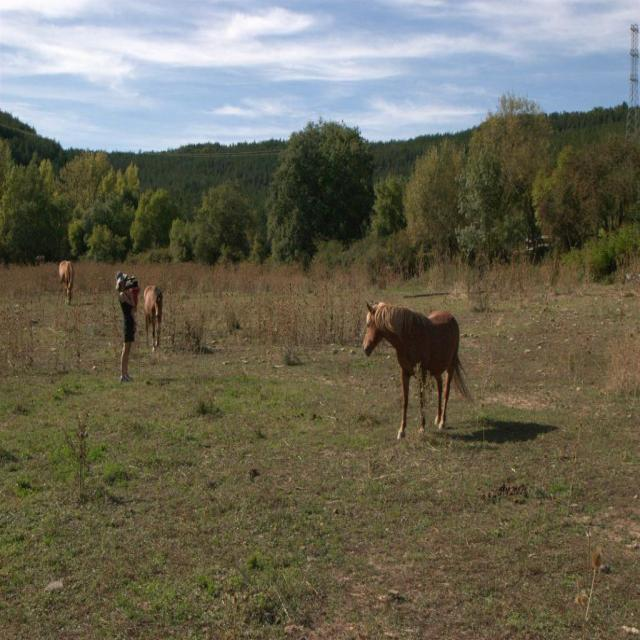Horse: (362, 300, 476, 439), (141, 284, 164, 351), (56, 260, 76, 304)
